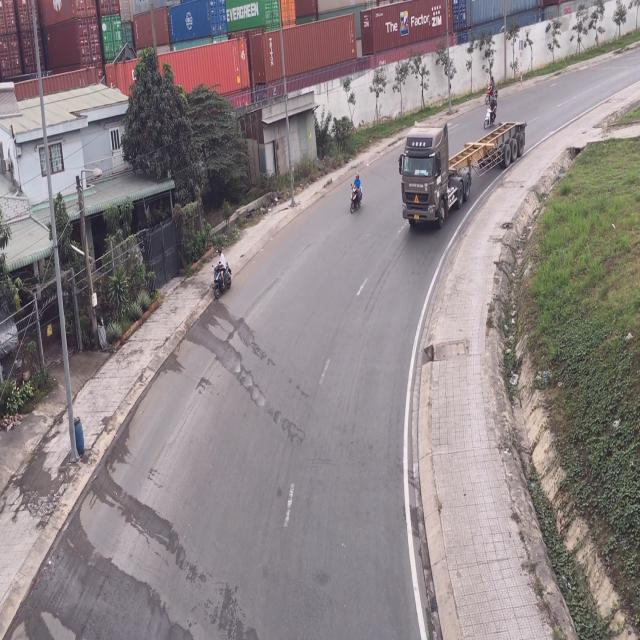motorbike: (212, 251, 232, 302), (348, 171, 364, 215), (483, 94, 498, 130), (485, 75, 496, 103)
truck: (399, 118, 527, 230)
